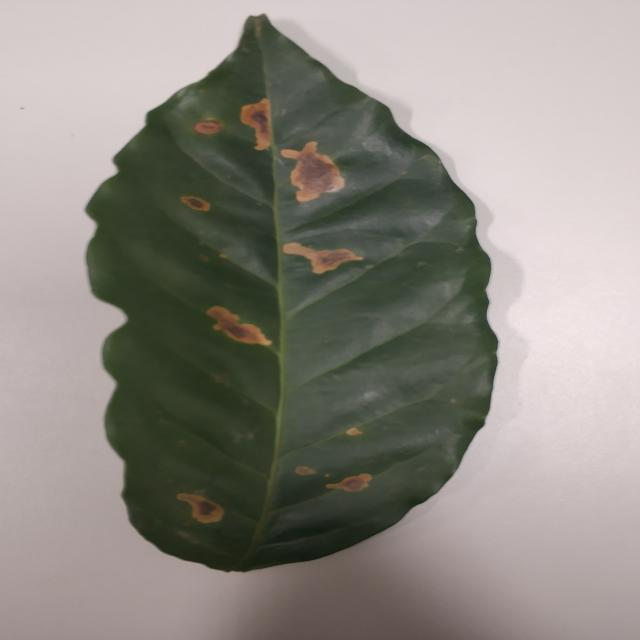Plaga-Minador: (83, 14, 501, 576)
